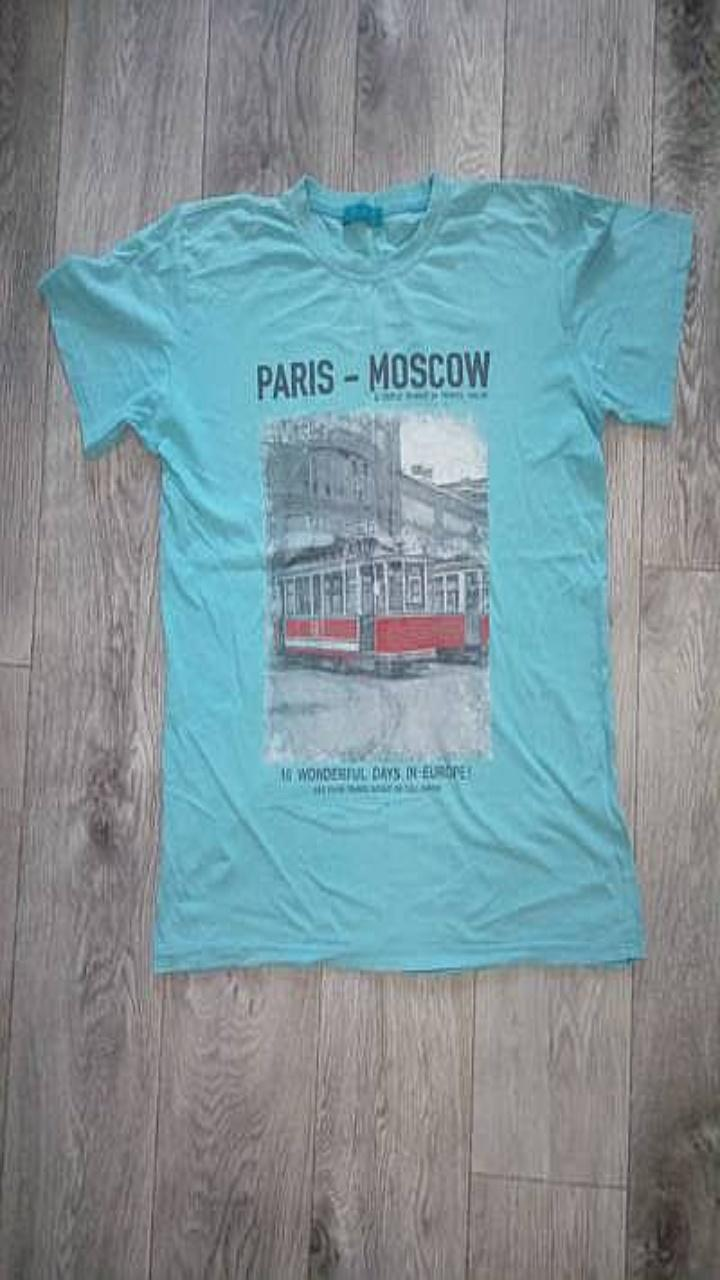T-Shirt: (38, 171, 691, 972)
